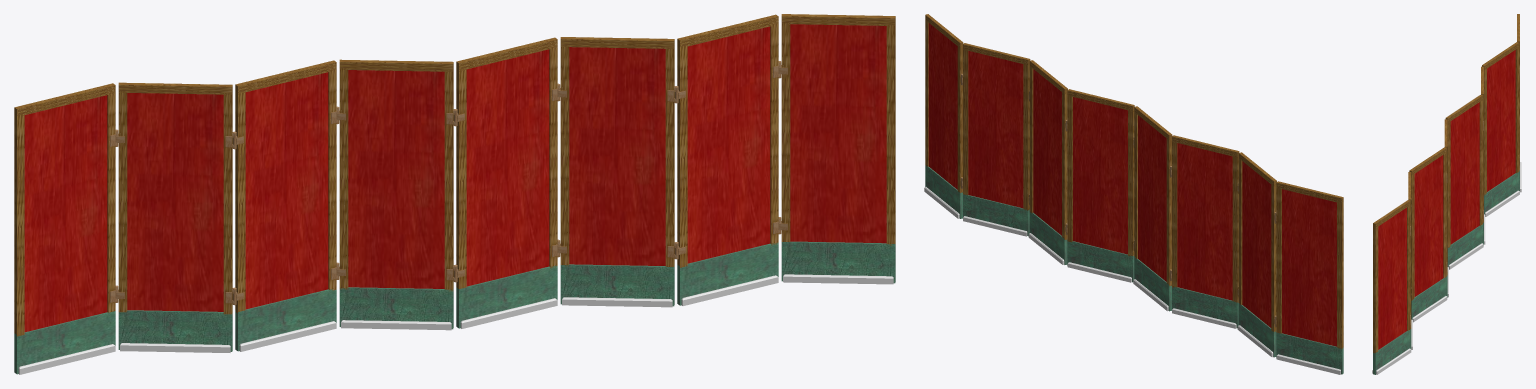
The model's file is Other_Folding_screen__0034.glb.
3 renders of one model, left to right at view 1: azimuth 30°, elevation 25°; view 2: azimuth 150°, elevation 25°; view 3: azimuth 270°, elevation 25°, orthographic. The views are drawn at different scales.
Parts seen in each view (by area): view 1: panel_3::painted_panel, panel_1::painted_panel, panel_5::painted_panel, panel_7::painted_panel, panel_4::painted_panel, panel_6::painted_panel, panel_2::painted_panel, panel_0::painted_panel, panel_3::bottom_rail, panel_5::bottom_rail, panel_7::bottom_rail, panel_1::bottom_rail (+36 smaller); view 2: panel_6::painted_panel, panel_2::painted_panel, panel_4::painted_panel, panel_0::painted_panel, panel_7::painted_panel, panel_1::painted_panel, panel_3::painted_panel, panel_5::painted_panel, panel_0::bottom_rail, panel_4::bottom_rail, panel_6::bottom_rail, panel_2::bottom_rail (+28 smaller); view 3: panel_5::painted_panel, panel_3::painted_panel, panel_7::painted_panel, panel_1::painted_panel, panel_7::stile_1, panel_7::bottom_rail, panel_5::bottom_rail, panel_3::bottom_rail, panel_1::bottom_rail, panel_1::stile_0, panel_5::stile_1, panel_3::stile_1 (+14 smaller).
Part boxes in pixels (box(x1,y1,x2,y2)): panel_3::painted_panel: box(348, 70, 444, 288); panel_1::painted_panel: box(127, 93, 223, 311); panel_5::painted_panel: box(569, 47, 665, 265); panel_7::painted_panel: box(790, 24, 886, 243); panel_4::painted_panel: box(466, 49, 549, 286); panel_6::painted_panel: box(687, 26, 770, 263); panel_2::painted_panel: box(245, 72, 328, 309); panel_0::painted_panel: box(24, 95, 107, 332); panel_3::bottom_rail: box(339, 287, 453, 329); panel_5::bottom_rail: box(560, 264, 674, 306); panel_7::bottom_rail: box(781, 241, 895, 283); panel_1::bottom_rail: box(118, 310, 232, 351); panel_6::painted_panel: box(968, 51, 1023, 208); panel_2::painted_panel: box(1177, 143, 1232, 300); panel_4::painted_panel: box(1073, 97, 1127, 254); panel_0::painted_panel: box(1282, 189, 1336, 346); panel_7::painted_panel: box(928, 23, 957, 189); panel_1::painted_panel: box(1242, 161, 1271, 327); panel_3::painted_panel: box(1138, 115, 1166, 281); panel_5::painted_panel: box(1033, 69, 1061, 235); panel_0::bottom_rail: box(1276, 332, 1343, 374); panel_4::bottom_rail: box(1067, 241, 1134, 282); panel_6::bottom_rail: box(963, 194, 1029, 236); panel_2::bottom_rail: box(1172, 287, 1238, 328); panel_5::painted_panel: box(1414, 155, 1443, 296); panel_3::painted_panel: box(1450, 102, 1479, 244); panel_7::painted_panel: box(1378, 207, 1406, 349); panel_1::painted_panel: box(1487, 50, 1515, 191); panel_7::stile_1: box(1373, 226, 1378, 353); panel_7::bottom_rail: box(1373, 330, 1410, 374); panel_5::bottom_rail: box(1411, 277, 1446, 319); panel_3::bottom_rail: box(1447, 224, 1482, 266); panel_1::bottom_rail: box(1484, 172, 1519, 214); panel_1::stile_0: box(1515, 46, 1519, 173); panel_5::stile_1: box(1411, 173, 1414, 300); panel_3::stile_1: box(1447, 121, 1450, 247).
Bounding box in the file's own units: 5.02 × 1.69 × 1.51.
5 materials, 4 textured.
